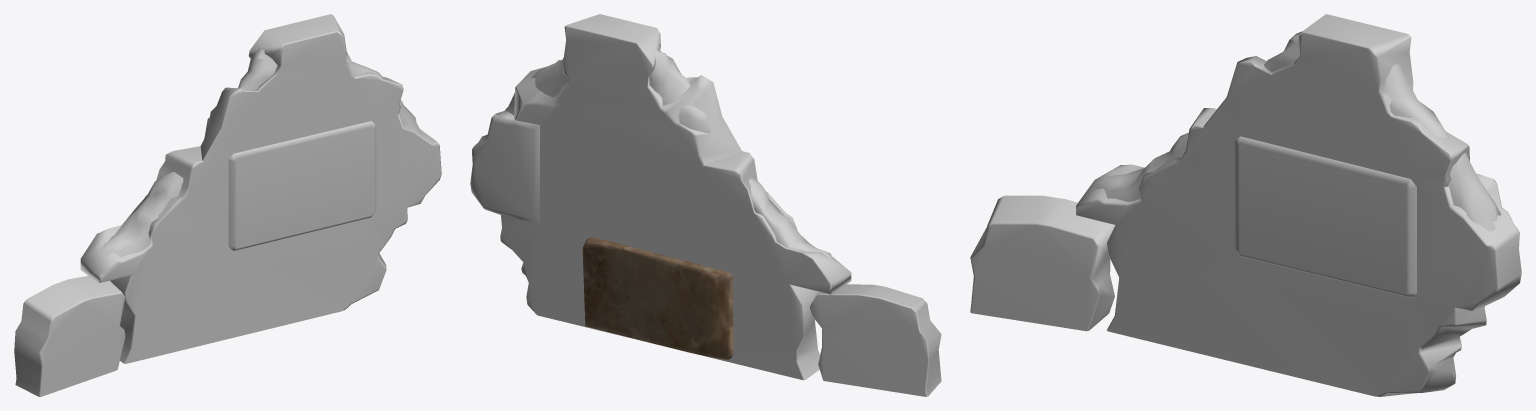
The picture shows the model from 3 angles, left to right: view 1: azimuth 30°, elevation 25°; view 2: azimuth 150°, elevation 25°; view 3: azimuth 330°, elevation 25°; orthographic projection. The views are drawn at different scales.
Visible parts, largest first — view 1: SM_Vault_5x4_Dmg_Wall_01_LOD0; view 2: SM_Vault_5x4_Dmg_Wall_01_LOD0; view 3: SM_Vault_5x4_Dmg_Wall_01_LOD0.
Part boxes in pixels (<box>): SM_Vault_5x4_Dmg_Wall_01_LOD0: <box>14,14,441,396</box>; SM_Vault_5x4_Dmg_Wall_01_LOD0: <box>470,14,941,396</box>; SM_Vault_5x4_Dmg_Wall_01_LOD0: <box>970,14,1521,396</box>.
Size of the model in its own units: 6.11 by 3.89 by 0.8964.
